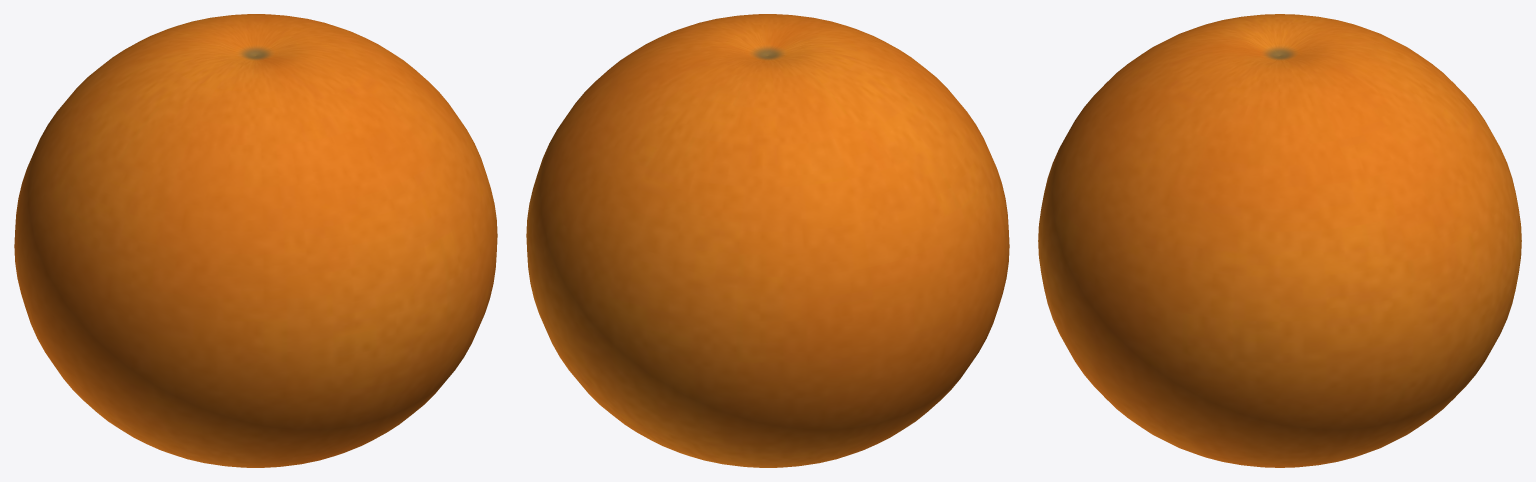
3 renders of one model, left to right at view 1: azimuth 30°, elevation 25°; view 2: azimuth 150°, elevation 25°; view 3: azimuth 270°, elevation 25°, orthographic.
Parts seen in each view (by area): view 1: Orange; view 2: Orange; view 3: Orange.
Part boxes in pixels (x1=…): Orange: x1=14, y1=14, x2=497, y2=467; Orange: x1=526, y1=14, x2=1009, y2=467; Orange: x1=1038, y1=14, x2=1521, y2=467.
Bounding box in the file's own units: 0.0752 × 0.066 × 0.0752.
1 material, 1 textured.
